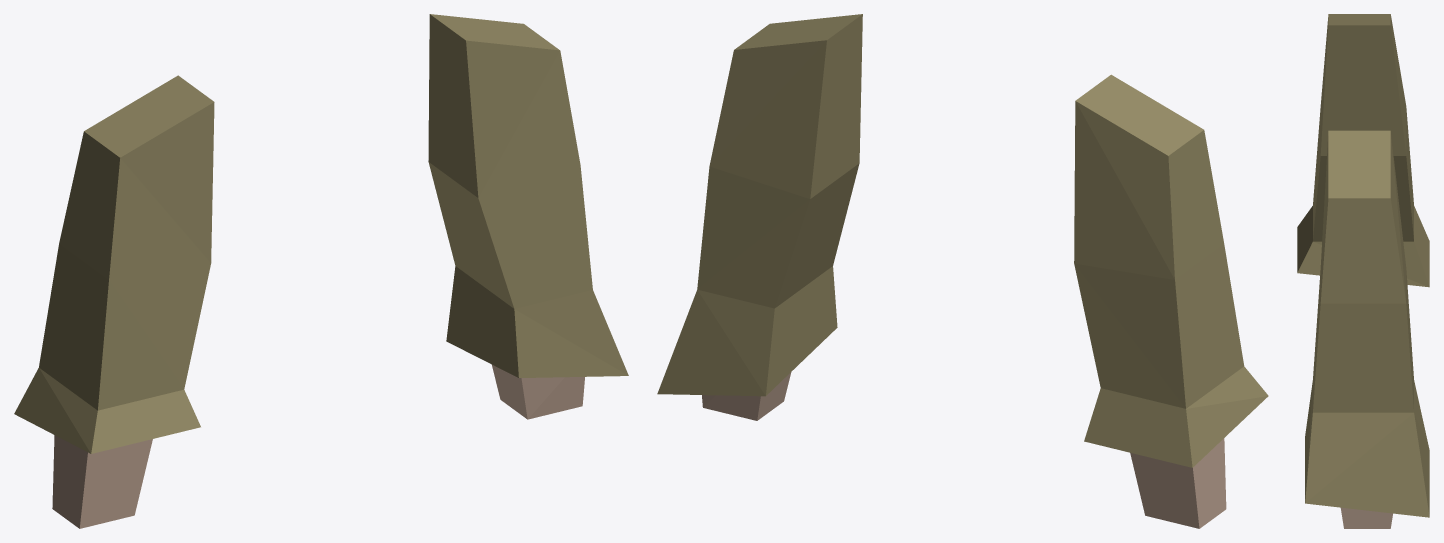
Rendered from man-arms.glb.
3 renders of one model, left to right at view 1: azimuth 30°, elevation 25°; view 2: azimuth 150°, elevation 25°; view 3: azimuth 270°, elevation 25°, orthographic. The views are drawn at different scales.
Visible parts, largest first — view 1: runescapemodel; view 2: runescapemodel; view 3: runescapemodel.
Boxes of the visible parts, x1,y1,x2,y2 form: runescapemodel: (14,14,628,528); runescapemodel: (657,14,1268,528); runescapemodel: (1297,14,1429,528).
Size of the model in its own units: 69 by 49 by 17.
